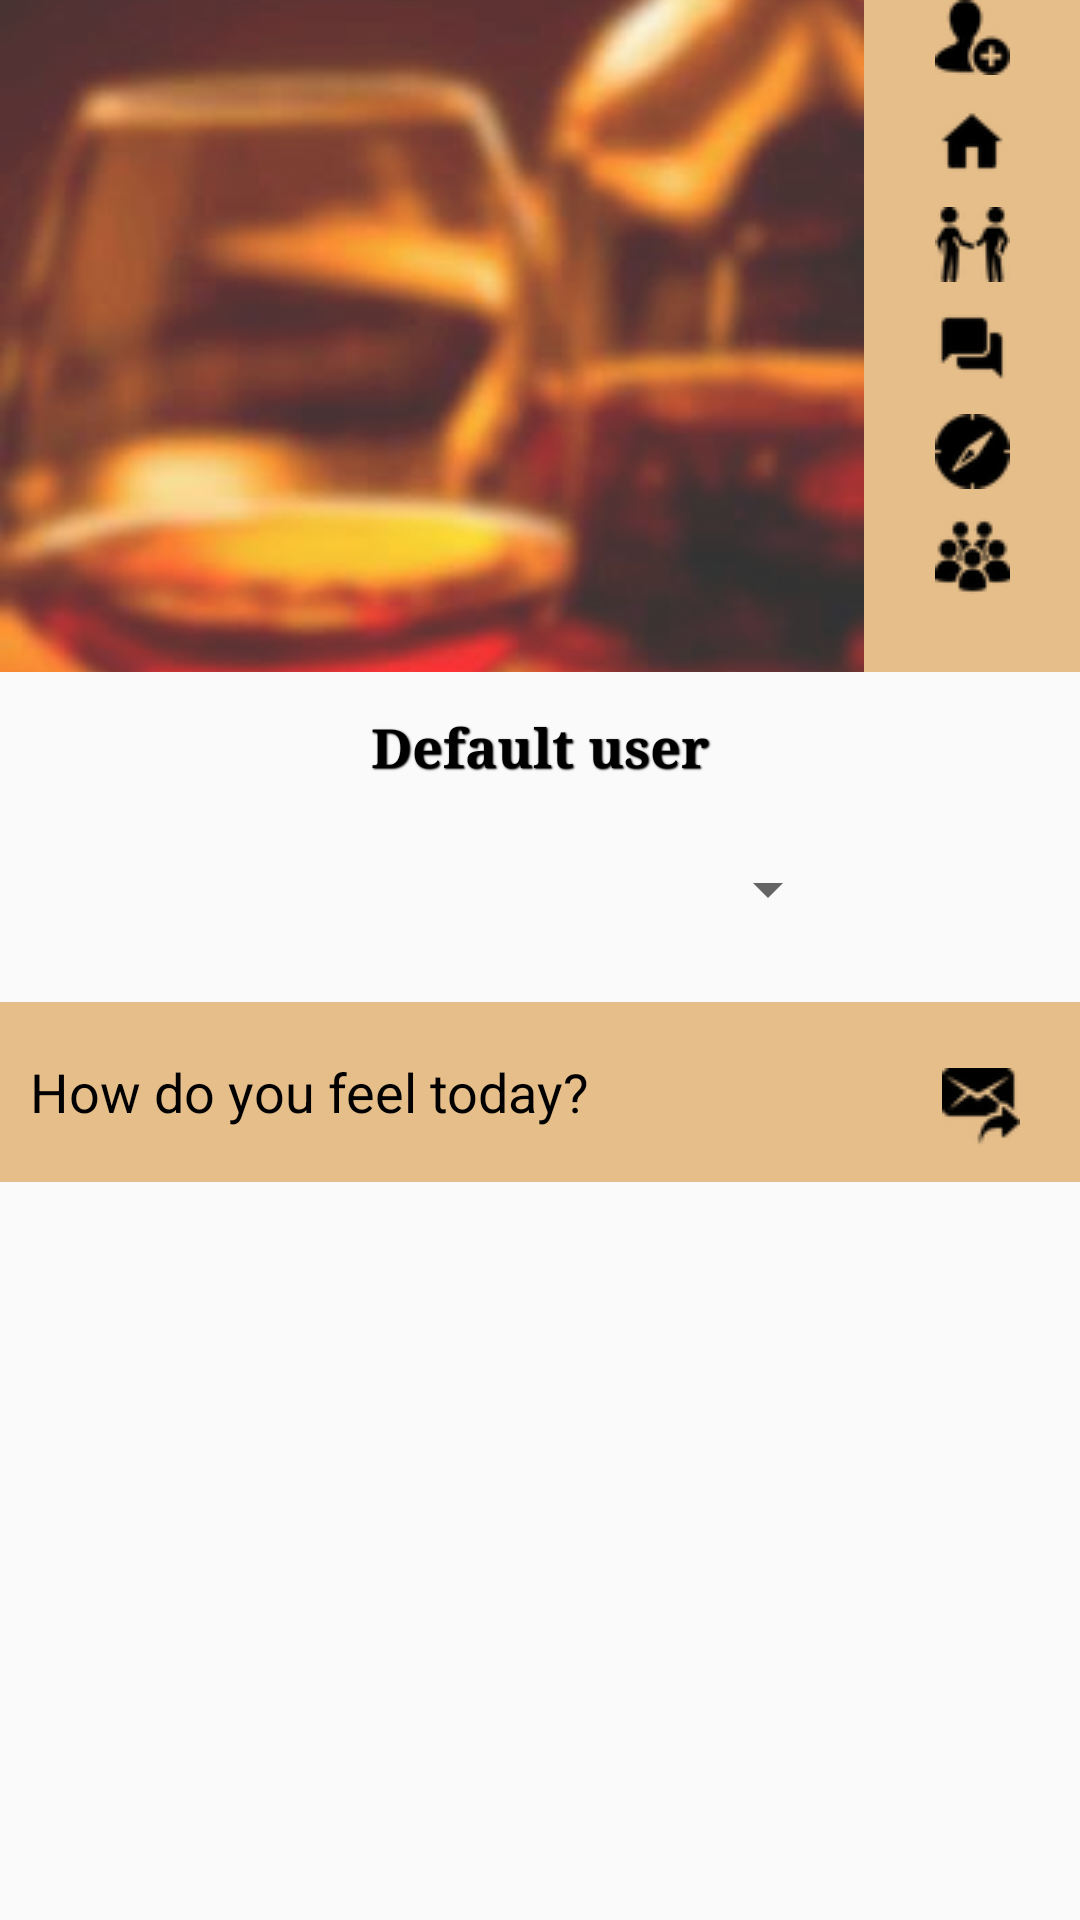

Screen size 1080px×1920px. Icon name, then its center in pixels as [x,y]:
add friend: [972,37]
rsz chat: [972,348]
rsz home: [972,141]
rsz map: [972,451]
send post: [981,1106]
